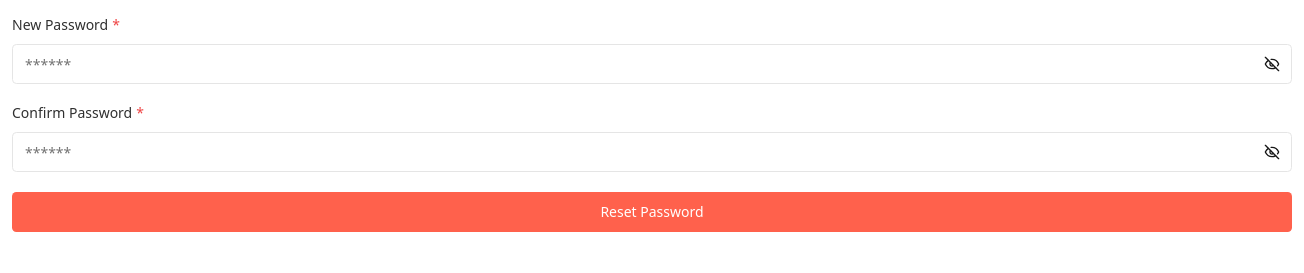
Test case: NewPasswordForm › validates form fields
Type "newpassword" into the password field named "New Password" at (652,64), box [12,44,1292,84]
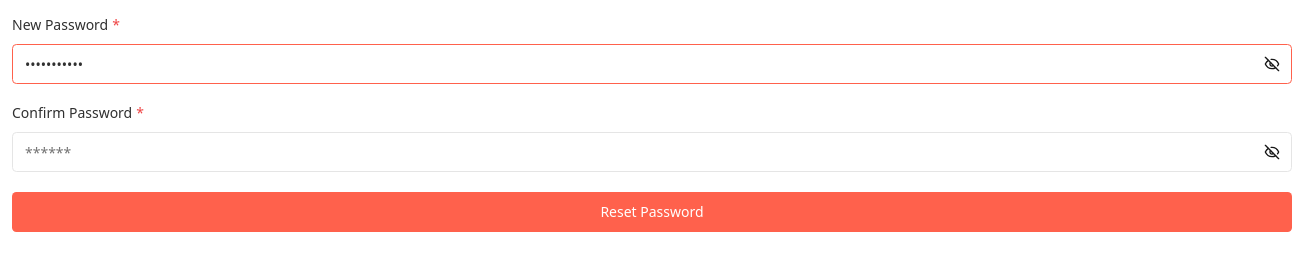
Type "differentpassword" into the password field named "Confirm Password" at (652,152), box [12,132,1292,172]
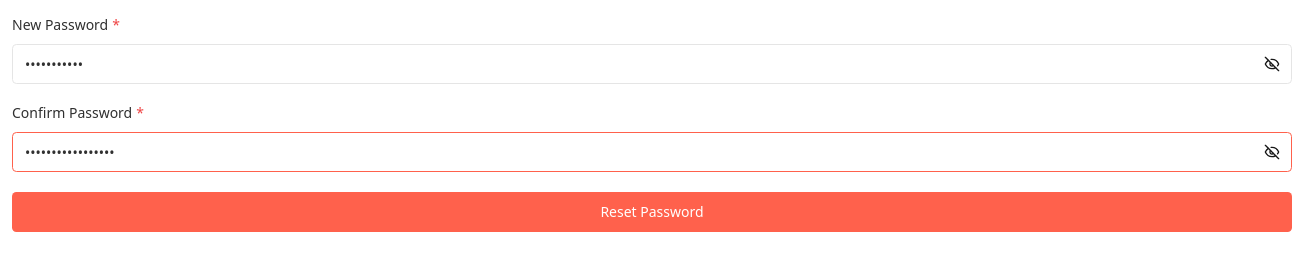
Click the button "Reset Password" at (652,212), box [12,192,1292,232]
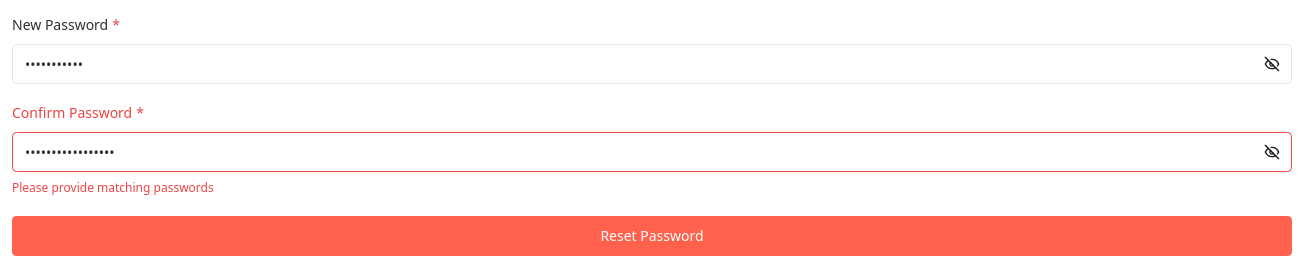
Expected: the text "Please provide matching passwords" is shown, [12,179,214,196]
